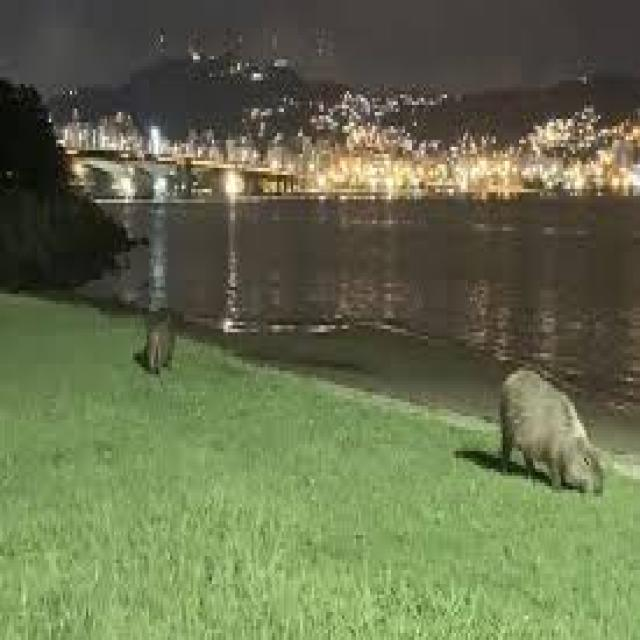capy: (498, 362, 606, 497)
